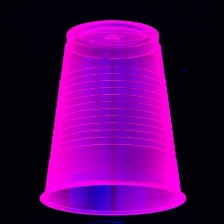glass: (37, 14, 190, 217)
